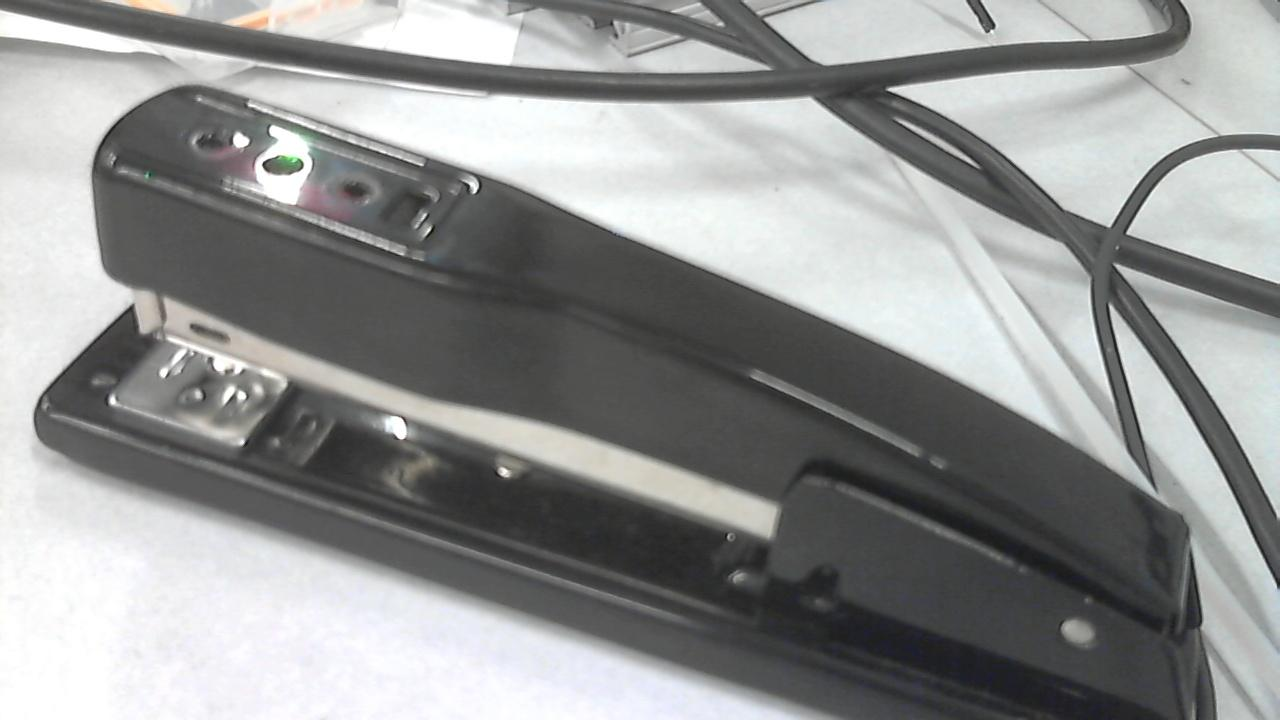object stapler - material metal - color black - Pdfname fduiadew: (201, 120, 365, 221)
